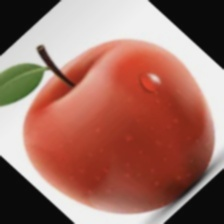apple: (29, 44, 224, 210)
